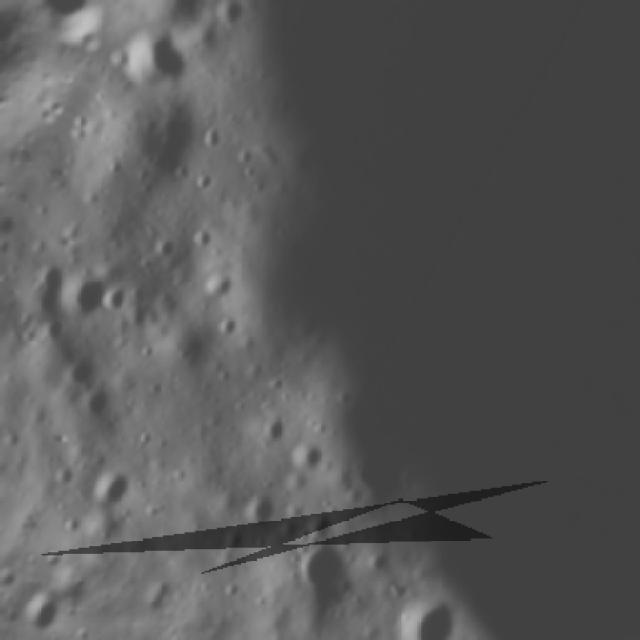crater: (99, 0, 207, 109), (283, 520, 380, 620), (73, 444, 161, 528), (387, 577, 478, 640), (133, 0, 255, 46), (55, 247, 122, 318), (277, 420, 338, 482), (231, 470, 289, 533)
